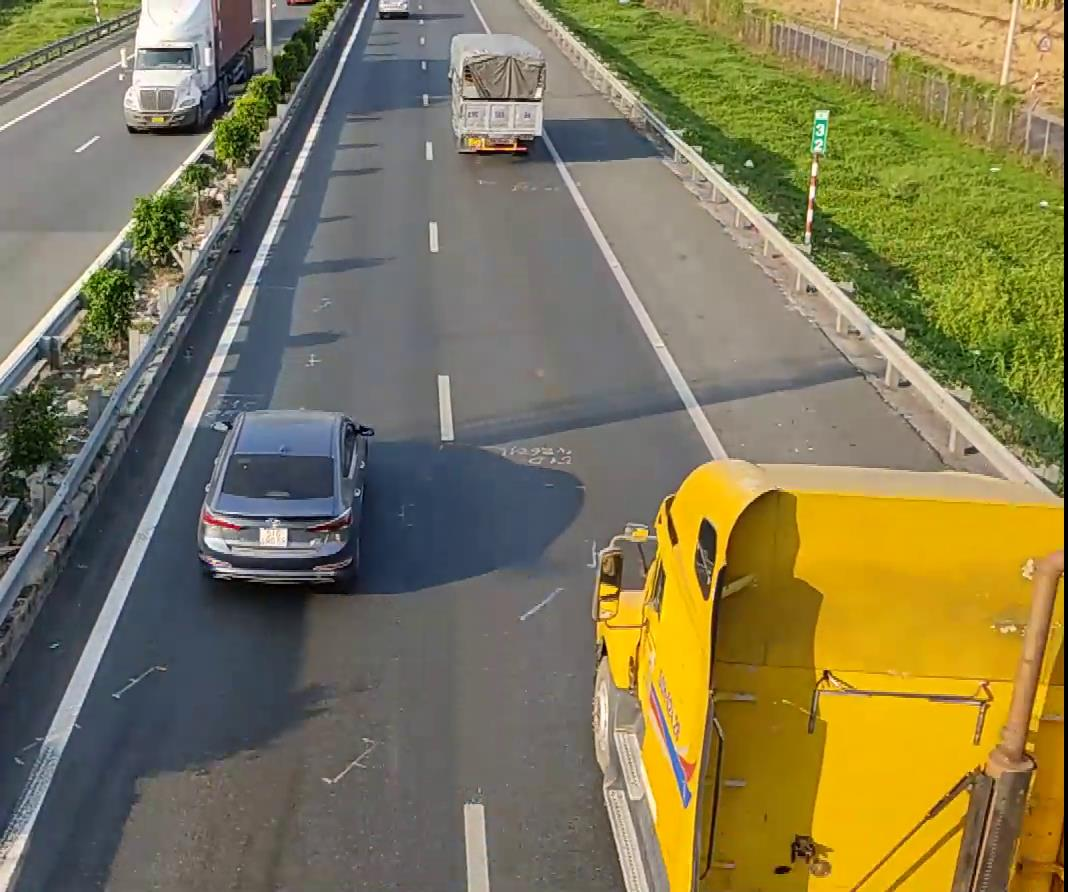car: (194, 406, 373, 588)
container: (587, 455, 1051, 889), (120, 0, 263, 132)
truck: (446, 30, 546, 154)
